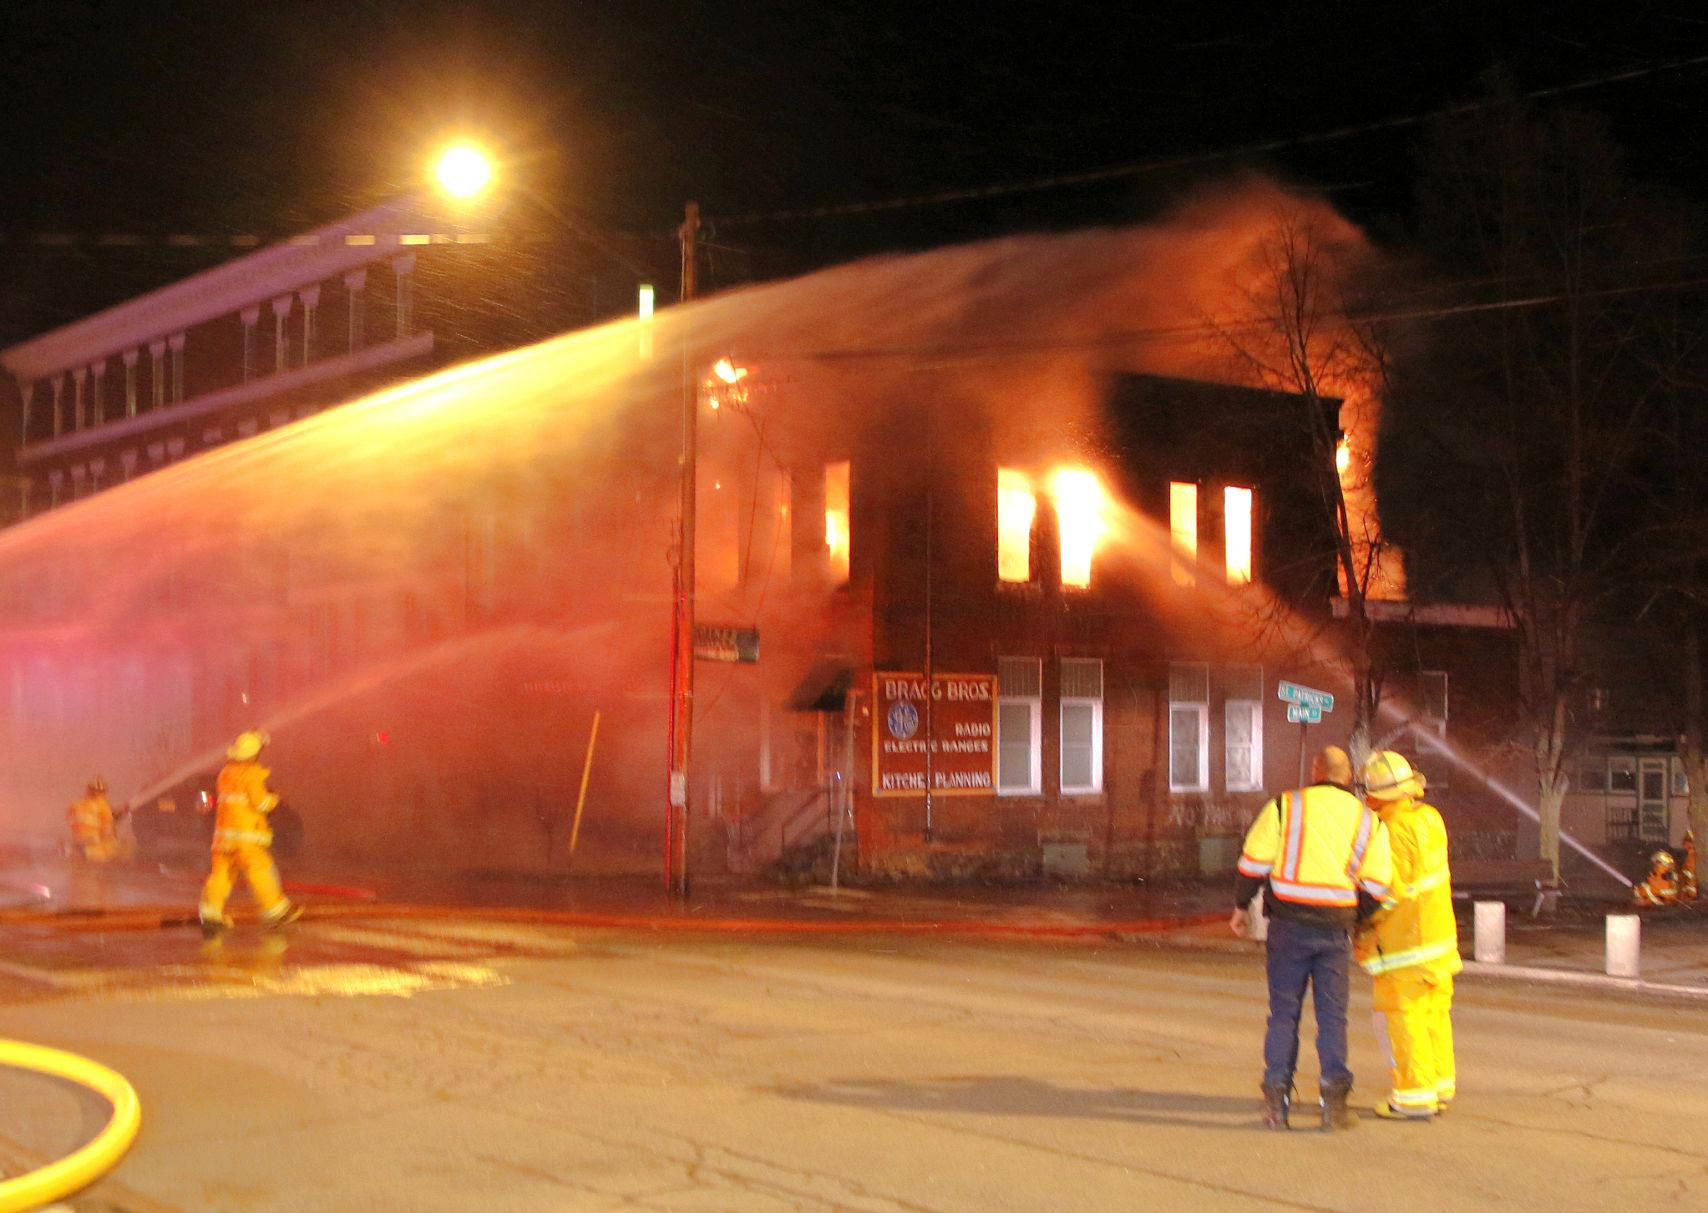Fire: (828, 373, 1392, 610)
